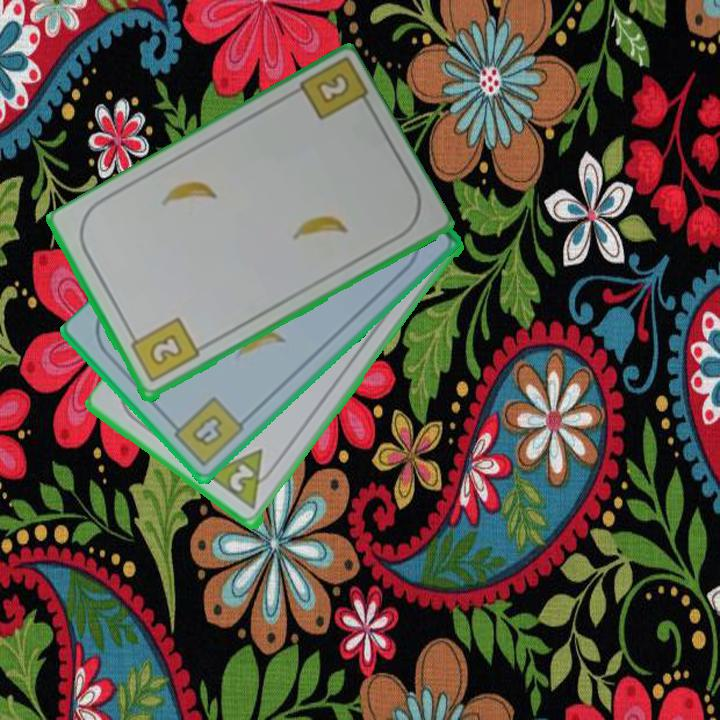2b: (125, 314, 202, 386), (312, 69, 353, 107)
2p: (204, 446, 282, 515)
4b: (165, 393, 247, 470)
